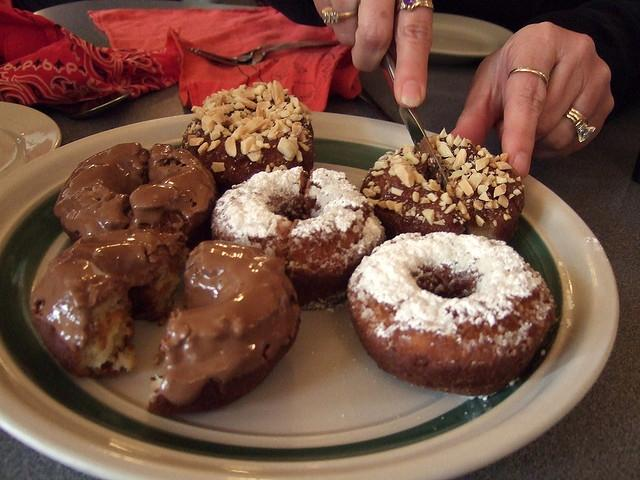almond: (180, 80, 314, 197), (394, 164, 416, 188), (277, 137, 297, 159), (453, 148, 467, 172), (458, 178, 474, 198), (467, 173, 483, 191), (436, 142, 454, 157), (422, 208, 434, 225), (390, 155, 408, 166), (475, 158, 489, 172), (428, 178, 442, 192), (406, 151, 420, 165), (388, 162, 409, 171), (369, 161, 388, 170), (440, 192, 453, 205), (268, 110, 282, 122), (494, 184, 506, 198), (257, 101, 272, 112), (480, 174, 493, 186), (498, 194, 509, 208), (254, 84, 266, 96), (428, 134, 441, 145), (391, 186, 404, 197), (443, 204, 457, 214), (458, 200, 468, 214), (475, 214, 485, 227), (484, 200, 500, 208), (426, 192, 438, 202), (386, 200, 398, 210), (277, 110, 291, 118), (211, 92, 222, 102), (474, 199, 484, 210), (402, 144, 413, 154), (439, 127, 448, 139), (366, 197, 379, 205), (478, 184, 488, 194), (234, 102, 246, 110), (453, 134, 461, 146), (372, 170, 384, 177), (500, 152, 508, 162), (497, 176, 508, 183), (433, 220, 445, 226), (420, 197, 430, 204), (239, 110, 247, 118), (502, 214, 512, 220), (454, 148, 460, 156), (464, 162, 472, 168), (485, 154, 493, 160), (384, 151, 396, 155), (384, 157, 392, 162), (509, 193, 515, 199), (518, 184, 524, 190), (241, 88, 247, 93), (441, 164, 446, 170), (453, 218, 459, 223), (466, 139, 472, 144), (504, 173, 509, 179)
